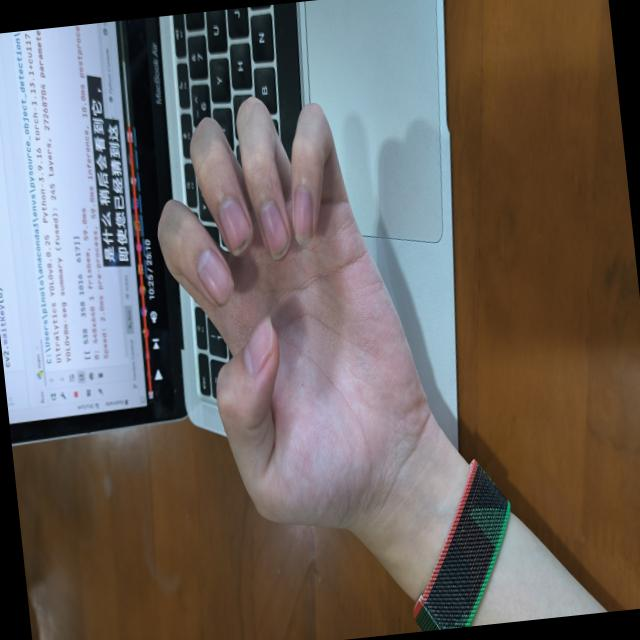Nail: (197, 246, 234, 305), (218, 195, 250, 254), (259, 197, 288, 257), (244, 313, 272, 373), (294, 183, 313, 244)
